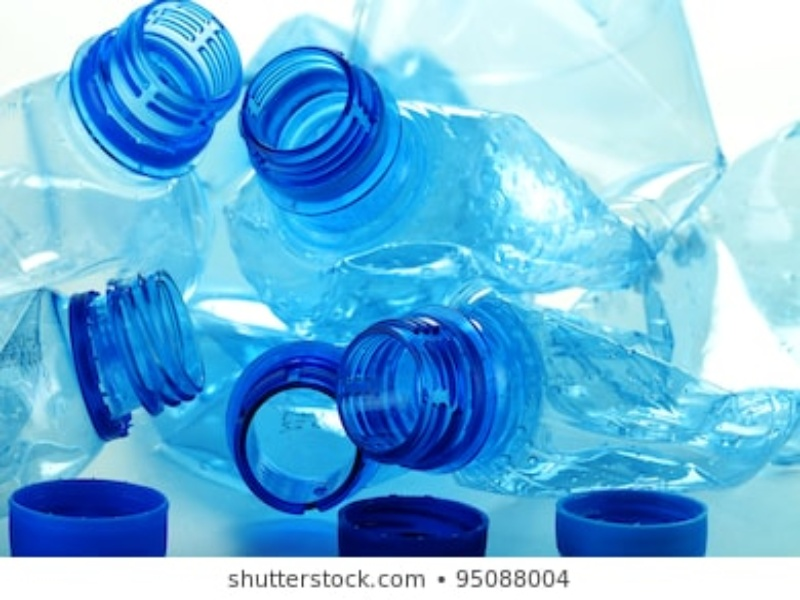bottle-cap: (1, 472, 181, 560), (315, 483, 514, 558), (541, 484, 726, 561)
plastic-bottle: (231, 1, 704, 318), (326, 303, 800, 481), (2, 1, 230, 287), (1, 242, 219, 482), (187, 305, 361, 508)
